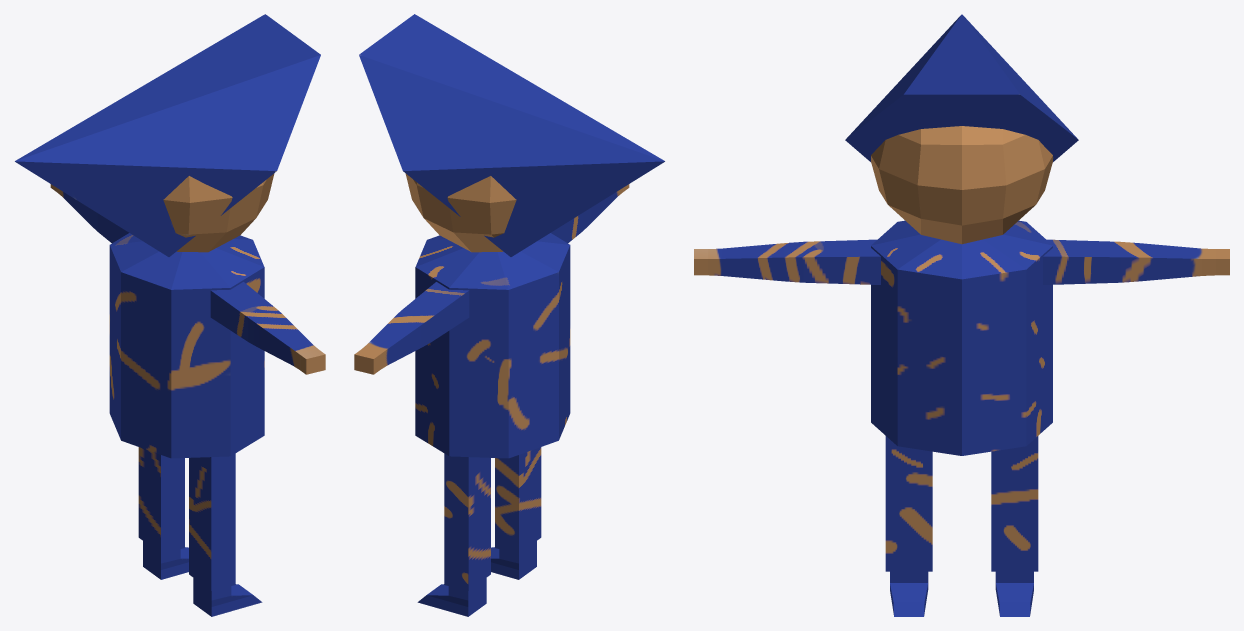
The model's file is Merlin Model.fbx.
3 renders of one model, left to right at view 1: azimuth 30°, elevation 25°; view 2: azimuth 150°, elevation 25°; view 3: azimuth 270°, elevation 25°, orthographic. The views are drawn at different scales.
Parts seen in each view (by area): view 1: Body; view 2: Body; view 3: Body.
Boxes of the visible parts, x1,y1,x2,y2 form: Body: (15, 14, 325, 616); Body: (354, 14, 664, 616); Body: (694, 14, 1229, 616).
Size of the model in its own units: 188 by 118 by 214.
